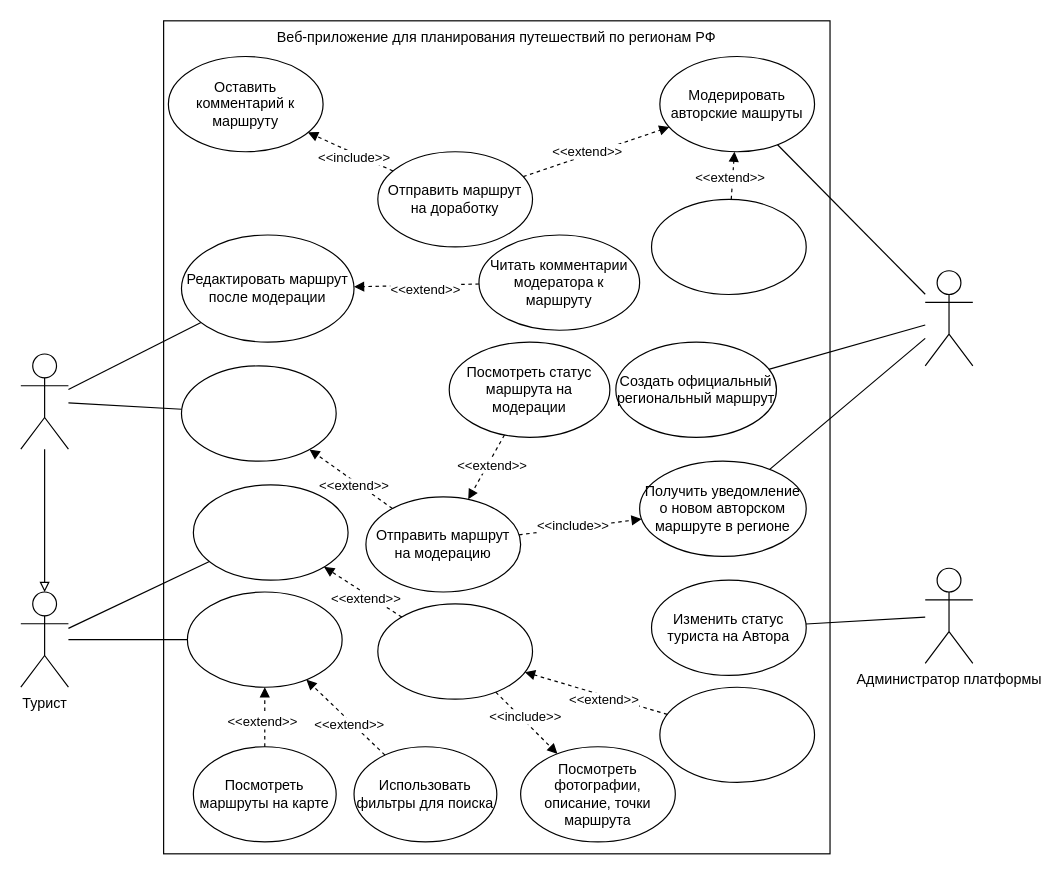
Some shapes in this 1061 by 875 pixel diagram are drawn without their labels. Each missing label, with the centre of its shape:
"Автор" goes at [44,401].
"Изменить статус модерации" goes at [728,246].
"Найти маршрут по региону" goes at [264,639].
"Посмотреть подробную информацию о маршруте" goes at [455,651].
"Посмотреть список региональных маршрутов" goes at [270,532].
"Представитель ТИЦ" goes at [948,318].
"Создать авторский маршрут с помощью конструктора" goes at [258,413].
"Сохранить маршрут в избранное" goes at [737,734].
